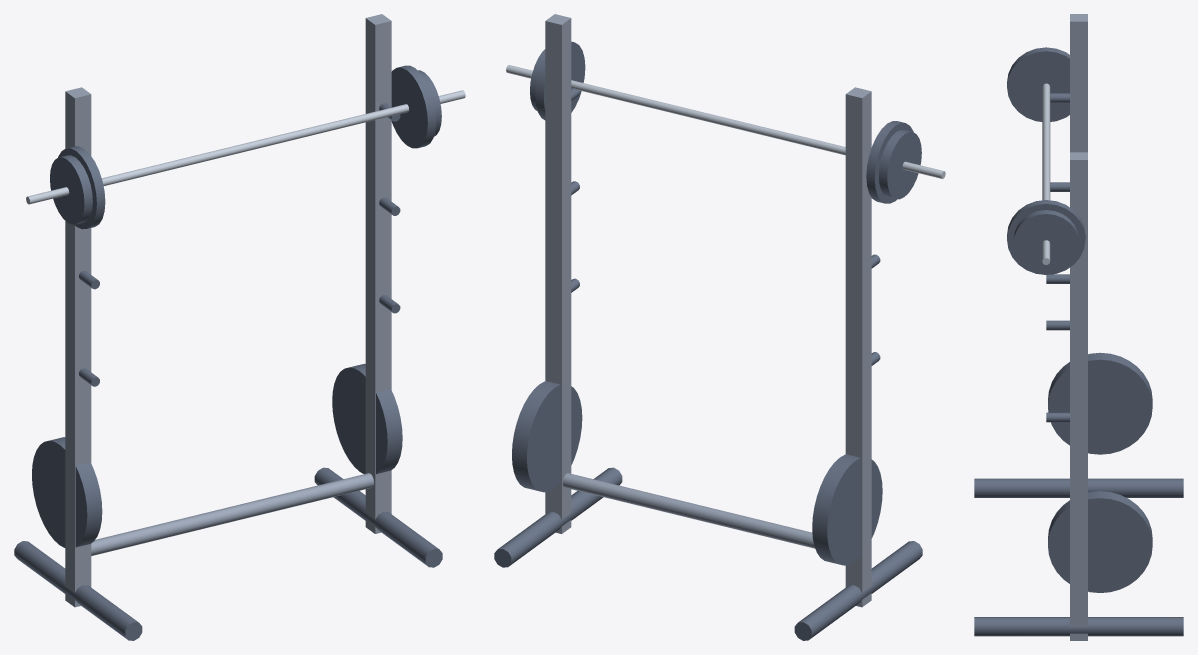
Rendered from barbell-rack-lite.glb.
3 views of the same model, side by side, from view 1: azimuth 30°, elevation 25°; view 2: azimuth 150°, elevation 25°; view 3: azimuth 270°, elevation 25° (orthographic). The views are drawn at different scales.
Parts seen in each view (by area): view 1: body, dark, light; view 2: body, dark, light; view 3: dark, body, light.
Boxes of the visible parts, x1=… form: body: x1=65, y1=14, x2=391, y2=607; dark: x1=14, y1=65, x2=442, y2=640; light: x1=26, y1=90, x2=465, y2=204; body: x1=545, y1=14, x2=871, y2=607; dark: x1=494, y1=41, x2=922, y2=640; light: x1=506, y1=65, x2=945, y2=178; dark: x1=974, y1=47, x2=1183, y2=636; body: x1=1070, y1=14, x2=1087, y2=640; light: x1=1042, y1=83, x2=1050, y2=264.
Bounding box in the file's own units: 1.45 × 1.62 × 0.64.
